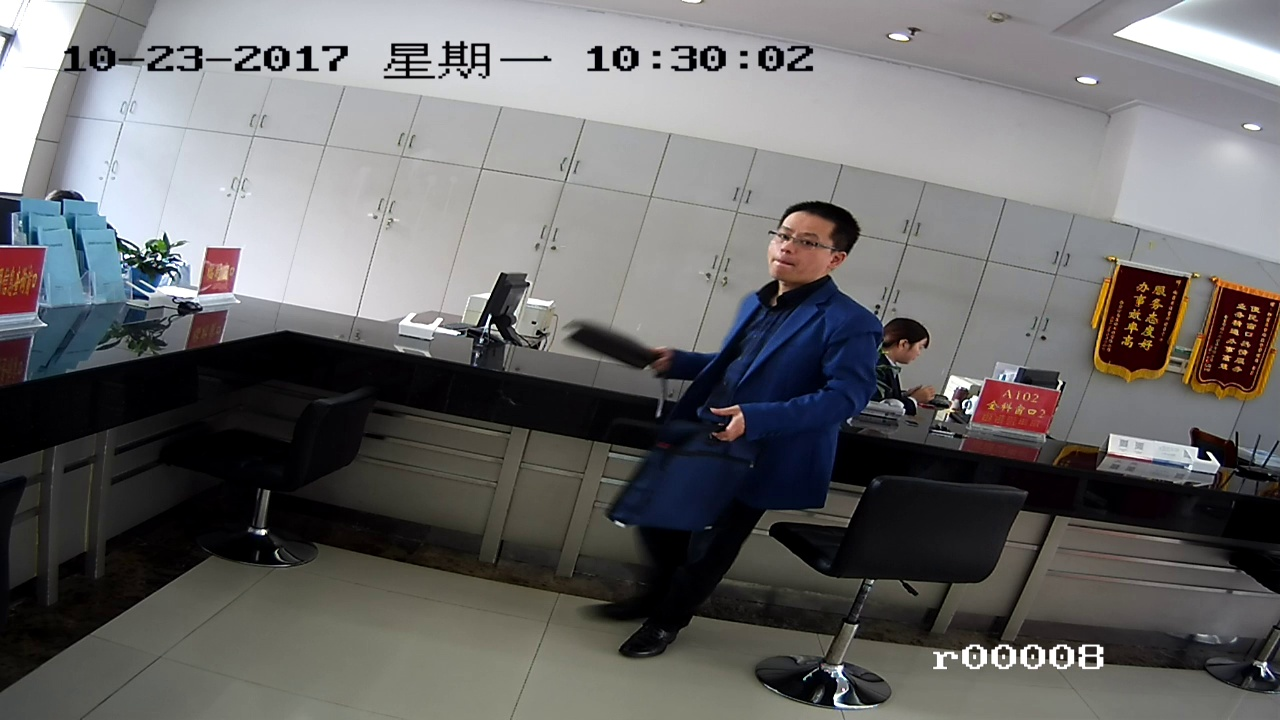billboard: (1109, 255, 1180, 374), (1205, 281, 1266, 403), (977, 379, 1053, 445), (203, 250, 238, 303)
chair: (780, 467, 1032, 706), (185, 395, 373, 583)
monitor: (485, 261, 535, 354)
person: (698, 198, 901, 419), (884, 311, 941, 374)
pot: (124, 230, 174, 291)
